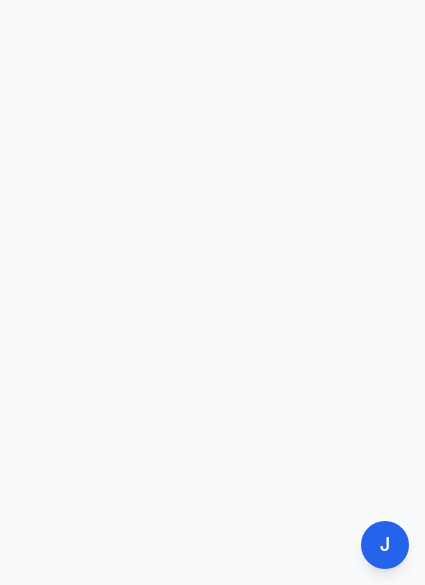
Scenario: Jack dock › outside a project it asks which project, and Ctrl+J toggles it
The image size is (425, 585).
Press j
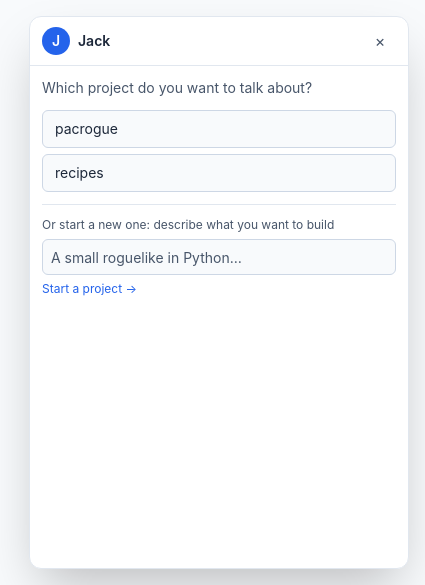
Click the button "recipes": (79, 173) [42,154,396,192]
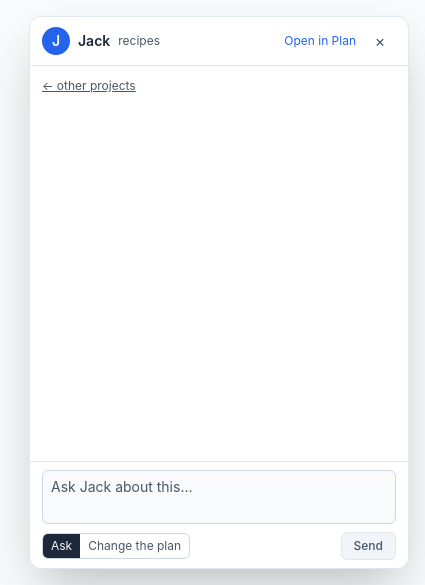
Expected: the element with test id "jack-thread" is shown, [42,78,136,94]
Press j
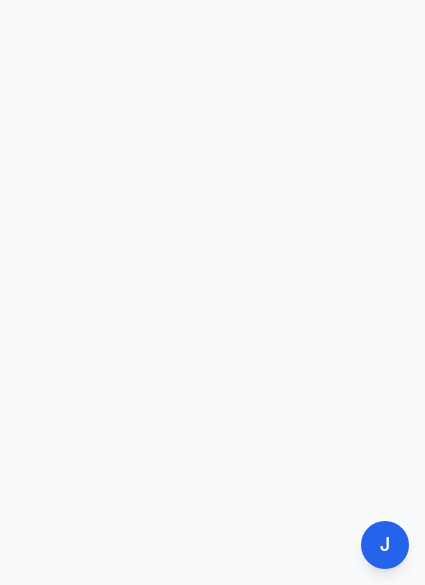
Expected: the element with test id "jack-dock" is gone
